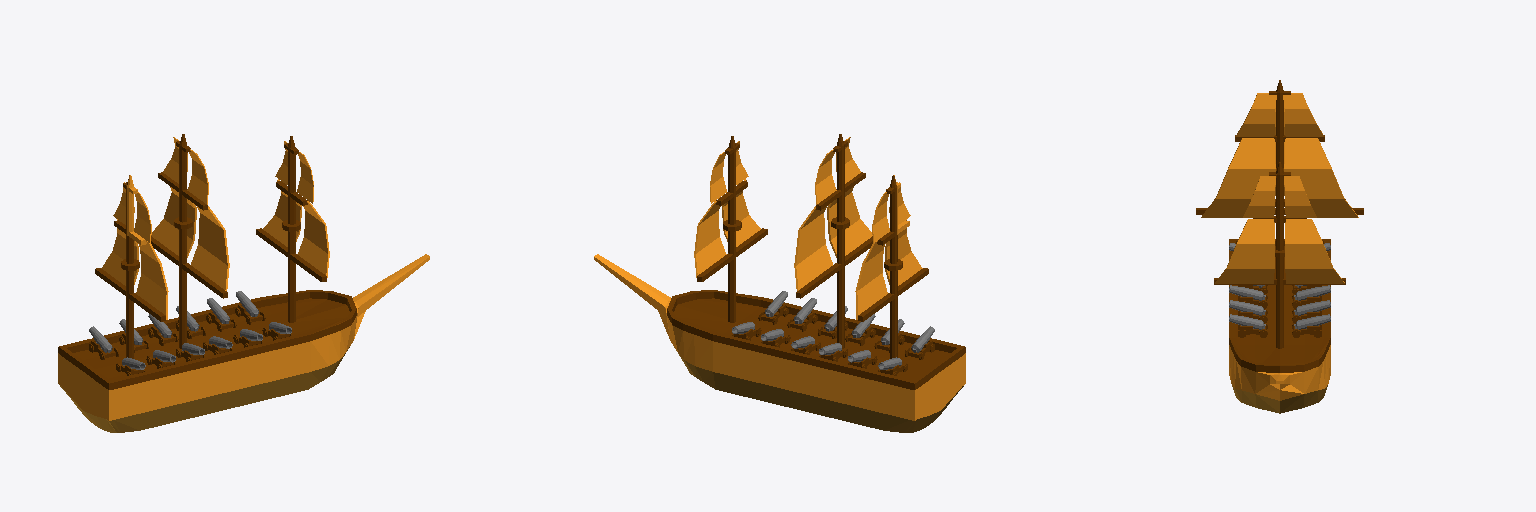
3 renders of one model, left to right at view 1: azimuth 30°, elevation 25°; view 2: azimuth 150°, elevation 25°; view 3: azimuth 270°, elevation 25°, orthographic.
Parts seen in each view (by area): view 1: HMS-Unicorn; view 2: HMS-Unicorn; view 3: HMS-Unicorn.
Part boxes in pixels (bbox=[...]): HMS-Unicorn: bbox=[58, 134, 429, 432]; HMS-Unicorn: bbox=[594, 134, 965, 432]; HMS-Unicorn: bbox=[1196, 80, 1363, 413].
Bounding box in the file's own units: 4.68 × 3.63 × 1.99.
1 materials, 1 textured.